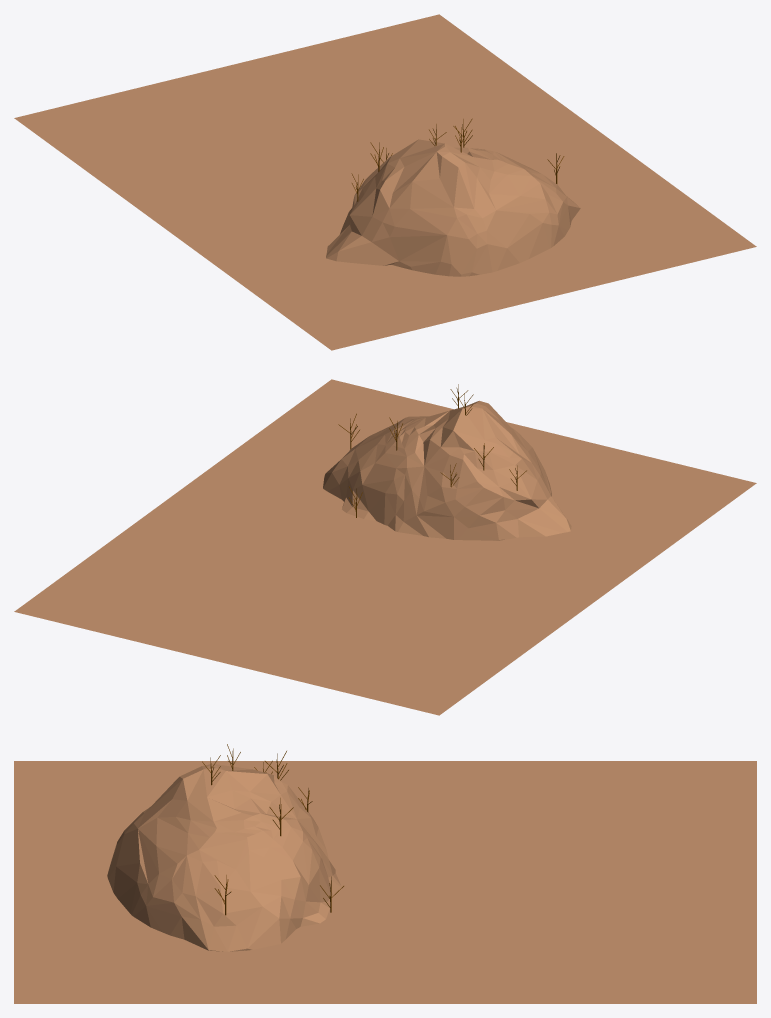
Rendered from Hill.gltf.
3 views of the same model, one above another, from view 1: azimuth 30°, elevation 25°; view 2: azimuth 150°, elevation 25°; view 3: azimuth 270°, elevation 25° (orthographic). The views are drawn at different scales.
Parts seen in each view (by area): view 1: node-0; view 2: node-0; view 3: node-0.
Part boxes in pixels (x1,y1,x2,y2): node-0: [14, 14, 756, 350]; node-0: [14, 379, 756, 715]; node-0: [14, 744, 756, 1003].
Bounding box in the file's own units: 2371673 × 679826 × 3067270.
